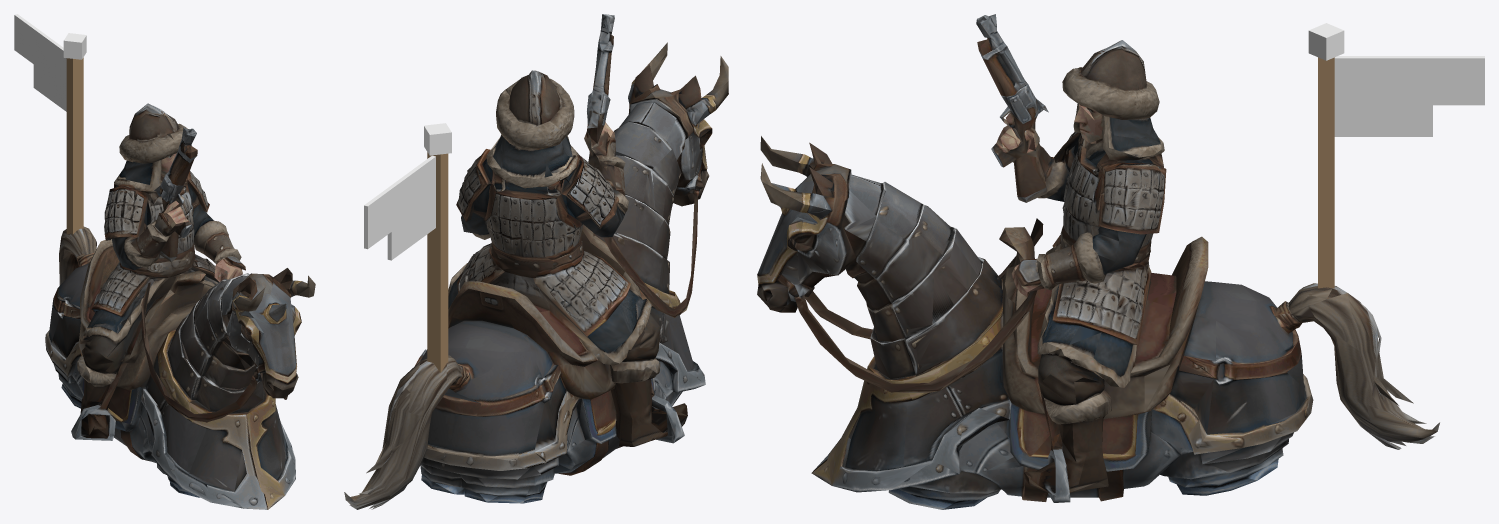
File: steppe_skyrider.glb
3 views of the same model, side by side, from view 1: azimuth 30°, elevation 25°; view 2: azimuth 150°, elevation 25°; view 3: azimuth 270°, elevation 25° (orthographic). The views are drawn at different scales.
Parts seen in each view (by area): view 1: steppe_skyrider, Team_pennant; view 2: steppe_skyrider, Team_pennant; view 3: steppe_skyrider, Team_pennant.
Boxes of the visible parts, x1=… form: steppe_skyrider: x1=45, y1=103, x2=315, y2=509; Team_pennant: x1=14, y1=14, x2=86, y2=234; steppe_skyrider: x1=344, y1=14, x2=728, y2=509; Team_pennant: x1=364, y1=123, x2=451, y2=372; steppe_skyrider: x1=757, y1=14, x2=1439, y2=509; Team_pennant: x1=1308, y1=23, x2=1484, y2=288.
Bounding box in the file's own units: 0.4485 × 0.7298 × 1.04.
3 materials, 1 textured.
